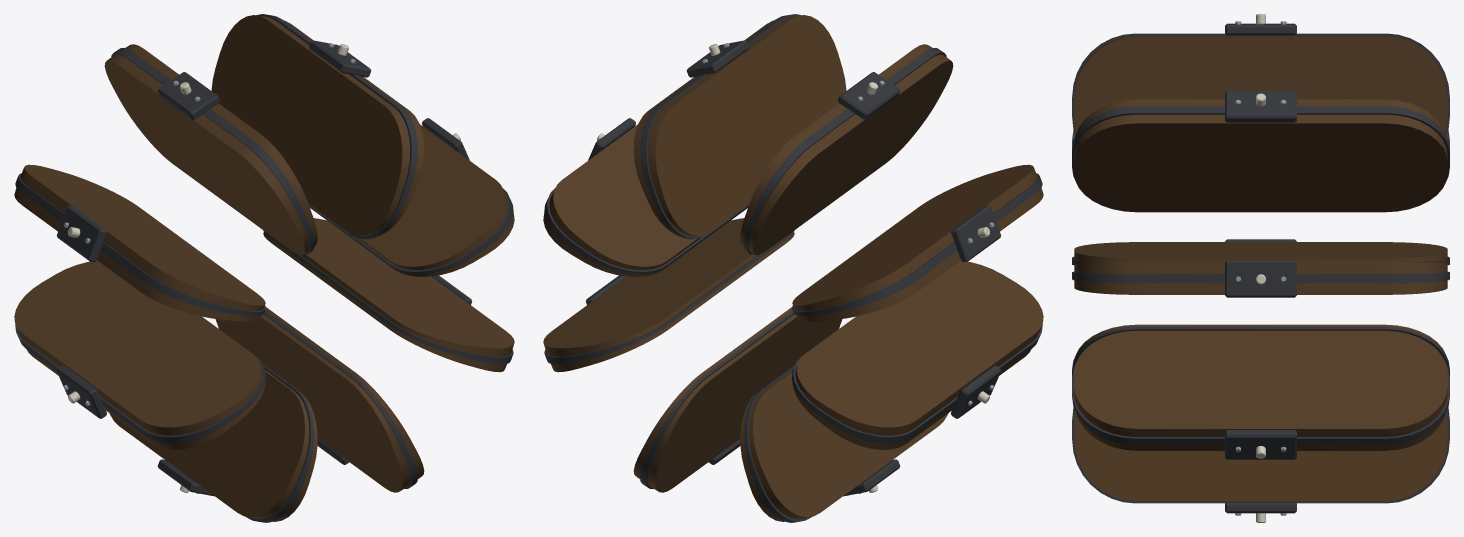
File: er5_confinement.obj
3 renders of one model, left to right at view 1: azimuth 30°, elevation 25°; view 2: azimuth 150°, elevation 25°; view 3: azimuth 270°, elevation 25°, orthographic. The views are drawn at different scales.
Parts seen in each view (by area): view 1: er5_confinement; view 2: er5_confinement; view 3: er5_confinement.
Boxes of the visible parts, x1,y1,x2,y2 form: er5_confinement: (14, 14, 514, 522); er5_confinement: (543, 14, 1043, 522); er5_confinement: (1072, 14, 1449, 522).
Size of the model in its own units: 4.61 by 4.61 by 3.68.
